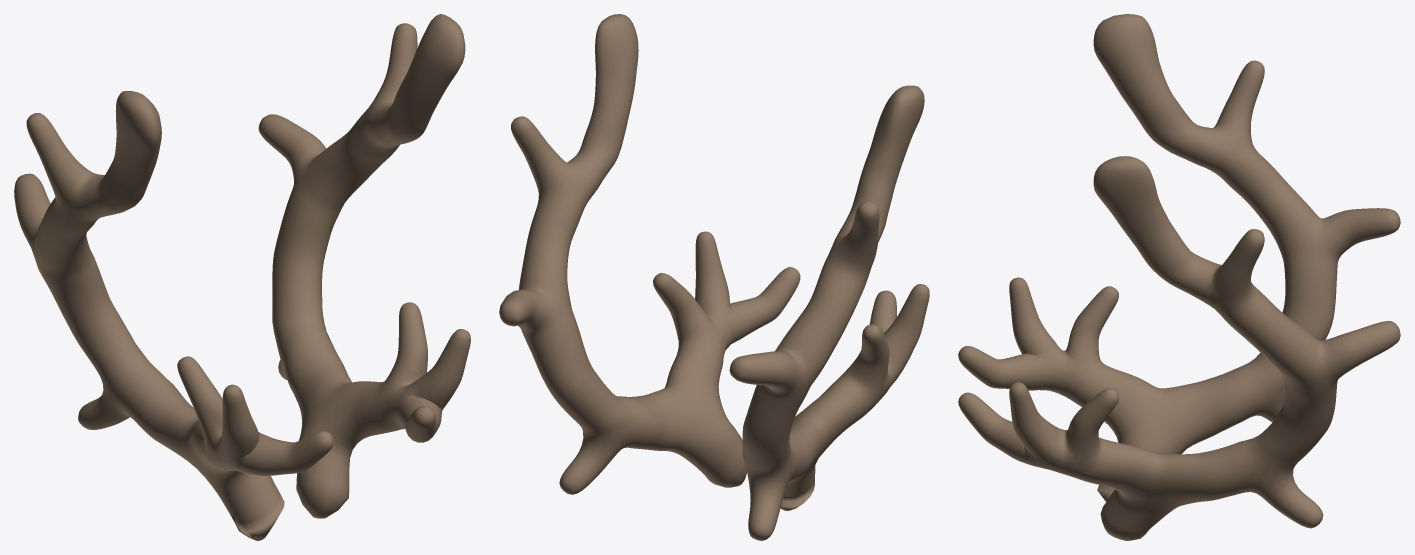
Rendered from tonakai.glb.
3 views of the same model, side by side, from view 1: azimuth 30°, elevation 25°; view 2: azimuth 150°, elevation 25°; view 3: azimuth 270°, elevation 25° (orthographic). The views are drawn at different scales.
Visible parts, largest first — view 1: 17828_Reindeer_Prancing_new; view 2: 17828_Reindeer_Prancing_new; view 3: 17828_Reindeer_Prancing_new.
Boxes of the visible parts, x1,y1,x2,y2 form: 17828_Reindeer_Prancing_new: (14, 14, 470, 540); 17828_Reindeer_Prancing_new: (499, 14, 929, 540); 17828_Reindeer_Prancing_new: (958, 14, 1400, 540).
Size of the model in its own units: 2.19 by 2.58 by 2.31.
